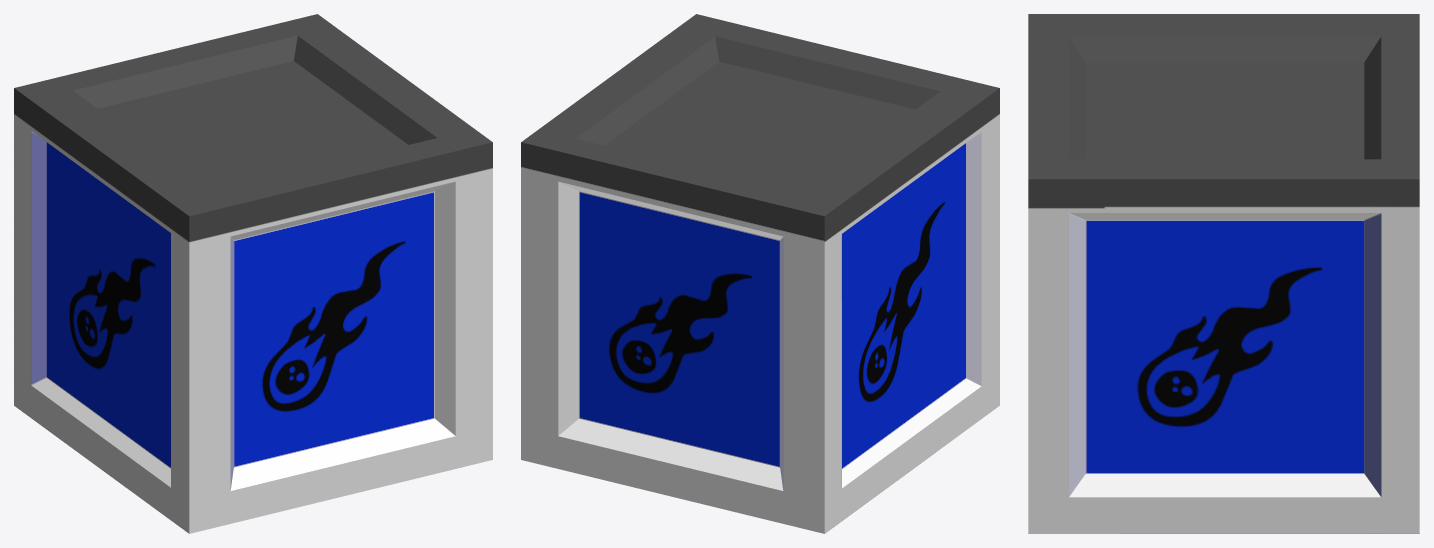
The model's file is Crate_Moonrock.obj.
3 renders of one model, left to right at view 1: azimuth 30°, elevation 25°; view 2: azimuth 150°, elevation 25°; view 3: azimuth 270°, elevation 25°, orthographic. The views are drawn at different scales.
Visible parts, largest first — view 1: Crate:pCube2 Crate:polySurface2 Base_Crate; view 2: Crate:pCube2 Crate:polySurface2 Base_Crate; view 3: Crate:pCube2 Crate:polySurface2 Base_Crate.
Boxes of the visible parts, x1,y1,x2,y2 form: Crate:pCube2 Crate:polySurface2 Base_Crate: (14,14,492,533); Crate:pCube2 Crate:polySurface2 Base_Crate: (521,14,999,533); Crate:pCube2 Crate:polySurface2 Base_Crate: (1028,14,1419,533).
Bounding box in the file's own units: 1 × 1 × 1.
